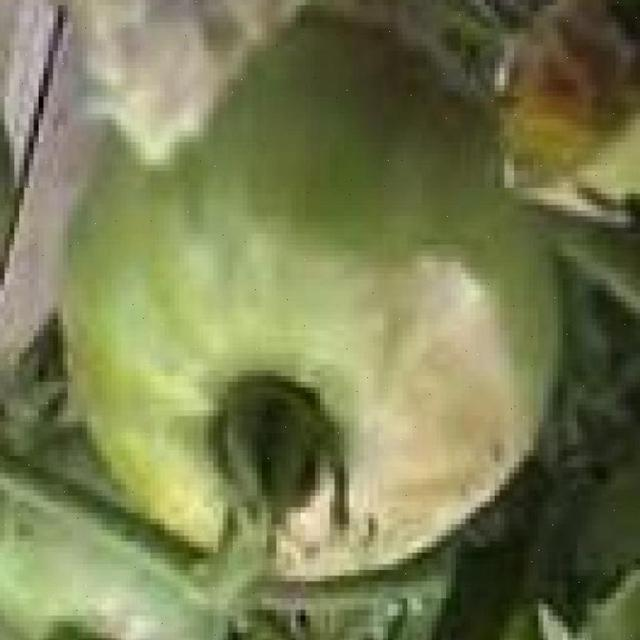Sunscald Fruit: (187, 155, 352, 384)
